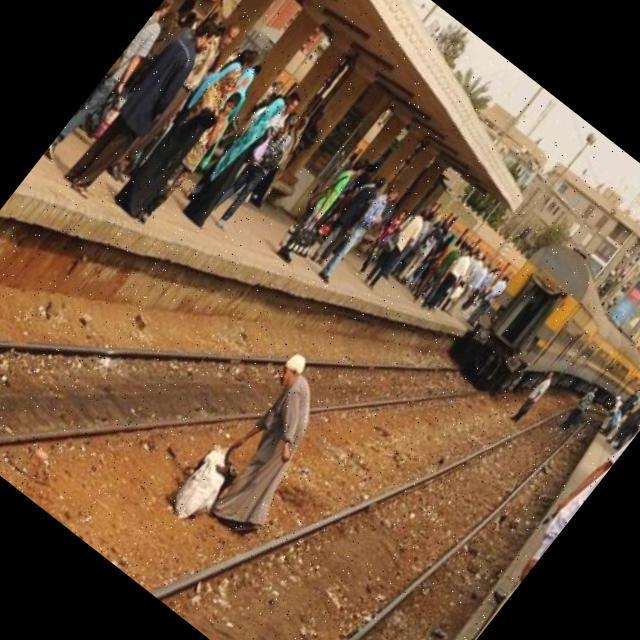person: (180, 348, 363, 548), (58, 3, 232, 208), (42, 0, 192, 170), (112, 58, 254, 226), (108, 15, 247, 186), (132, 89, 252, 234), (177, 91, 295, 231), (273, 150, 373, 268), (308, 176, 407, 294), (306, 168, 394, 271), (356, 202, 438, 298), (360, 202, 414, 265), (508, 366, 560, 428), (554, 380, 606, 439), (629, 377, 640, 439)
